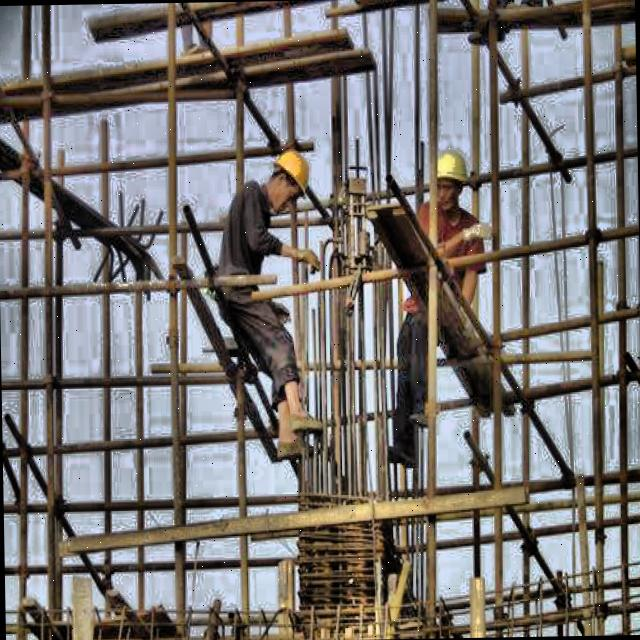helmet: (427, 144, 476, 216), (264, 143, 316, 210)
